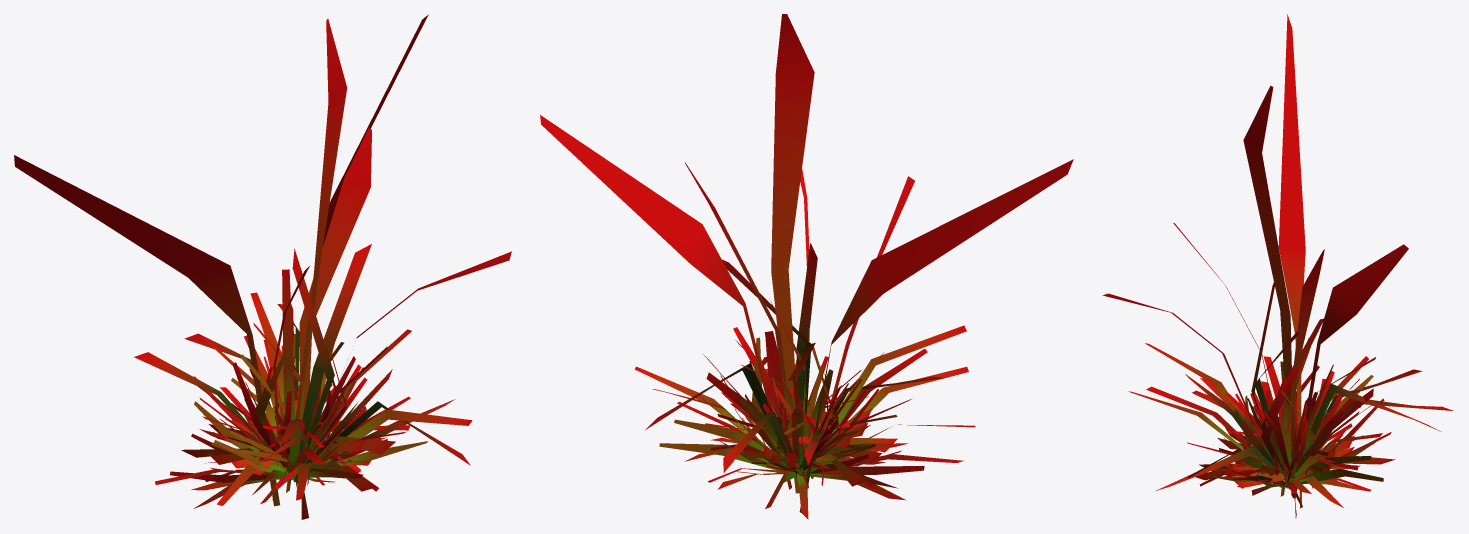
File: Var1_LOD2.fbx
3 renders of one model, left to right at view 1: azimuth 30°, elevation 25°; view 2: azimuth 150°, elevation 25°; view 3: azimuth 270°, elevation 25°, orthographic. The views are drawn at different scales.
Parts seen in each view (by area): view 1: _a3f6_Var1_LOD2; view 2: _a3f6_Var1_LOD2; view 3: _a3f6_Var1_LOD2.
Part boxes in pixels (box(x1,y1,x2,y2)): _a3f6_Var1_LOD2: box(14, 14, 511, 519); _a3f6_Var1_LOD2: box(540, 14, 1073, 519); _a3f6_Var1_LOD2: box(1102, 14, 1453, 518).
Bounding box in the file's own units: 85.68 × 83.59 × 61.15.
